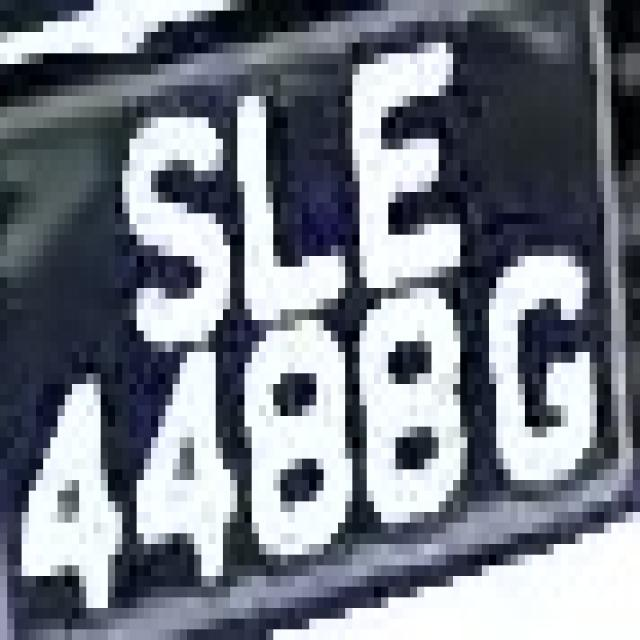4: (0, 331, 144, 618), (122, 341, 238, 587)
8: (331, 245, 467, 608), (237, 299, 367, 576)
E: (324, 43, 504, 320)
G: (460, 224, 604, 544)
L: (223, 86, 359, 342)
S: (100, 118, 244, 374)
